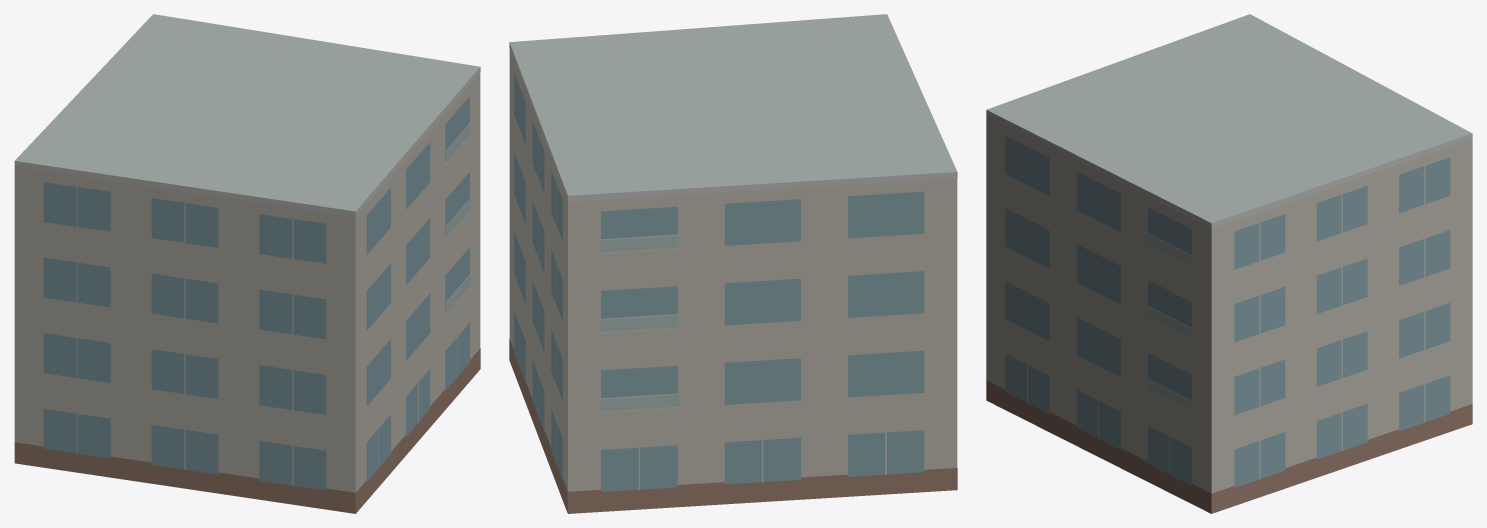
Rendered from survey-upis-32910458.glb.
3 renders of one model, left to right at view 1: azimuth 30°, elevation 25°; view 2: azimuth 150°, elevation 25°; view 3: azimuth 270°, elevation 25°, orthographic. The views are drawn at different scales.
Visible parts, largest first — view 1: survey-upis-32910458.tmp; view 2: survey-upis-32910458.tmp; view 3: survey-upis-32910458.tmp.
Boxes of the visible parts, bbox=[...] form: survey-upis-32910458.tmp: bbox=[14, 14, 480, 513]; survey-upis-32910458.tmp: bbox=[509, 14, 957, 513]; survey-upis-32910458.tmp: bbox=[986, 14, 1472, 513].
Size of the model in its own units: 19.45 by 12.6 by 19.11.
